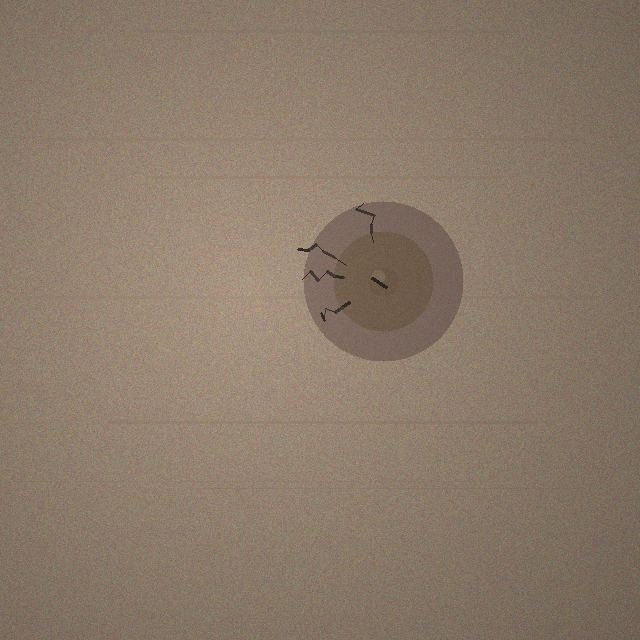crack: (303, 201, 463, 361)
